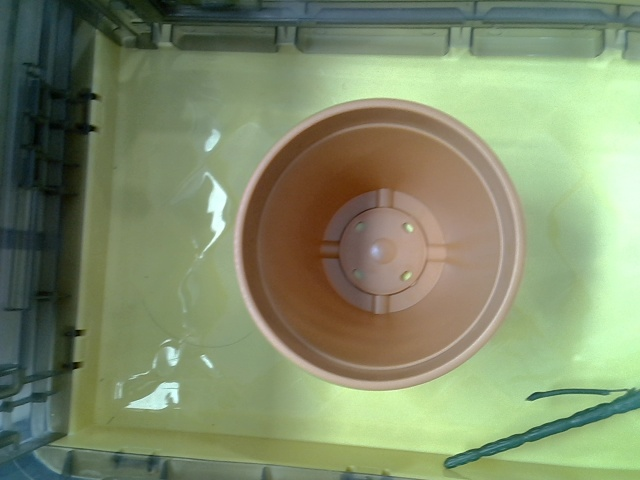화분: (234, 96, 527, 392)
